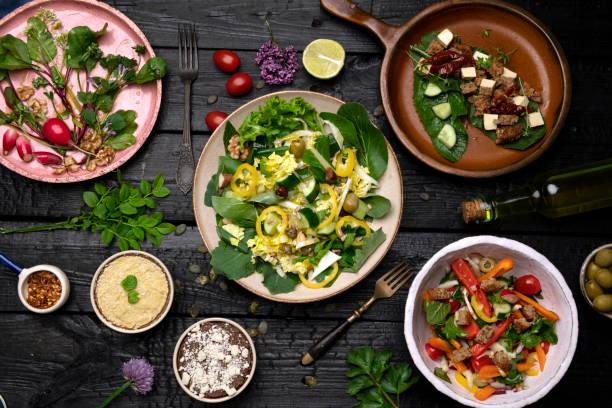Braised Crucian Carp: (192, 89, 400, 300), (377, 0, 566, 177), (403, 236, 576, 406), (2, 0, 162, 183)
